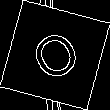O_SE: (24, 22, 86, 88)
